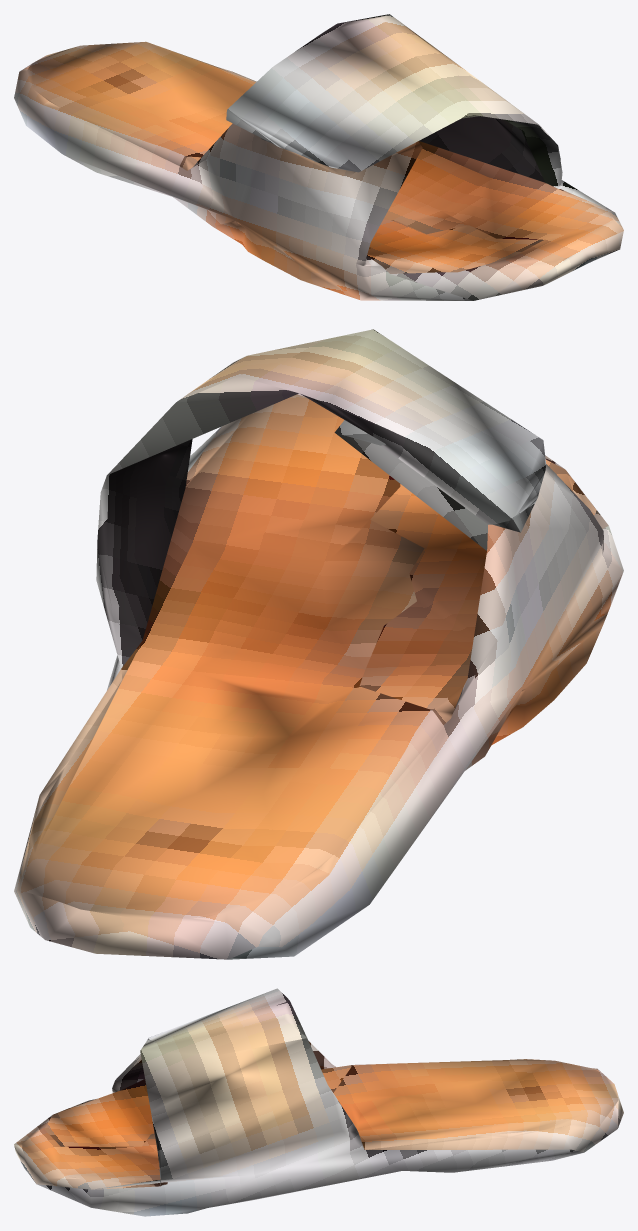
File: adiZero_Slide_2_SC-low.glb
3 views of the same model, one above another, from view 1: azimuth 30°, elevation 25°; view 2: azimuth 150°, elevation 25°; view 3: azimuth 270°, elevation 25° (orthographic). The views are drawn at different scales.
Visible parts, largest first — view 1: adiZero_Slide_2_SC; view 2: adiZero_Slide_2_SC; view 3: adiZero_Slide_2_SC.
Boxes of the visible parts, x1,y1,x2,y2 form: adiZero_Slide_2_SC: (14, 14, 623, 300); adiZero_Slide_2_SC: (14, 329, 623, 959); adiZero_Slide_2_SC: (14, 988, 623, 1216).
Bounding box in the file's own units: 0.15 × 0.0843 × 0.2892.
Materials: 1 (1 with a texture image).
